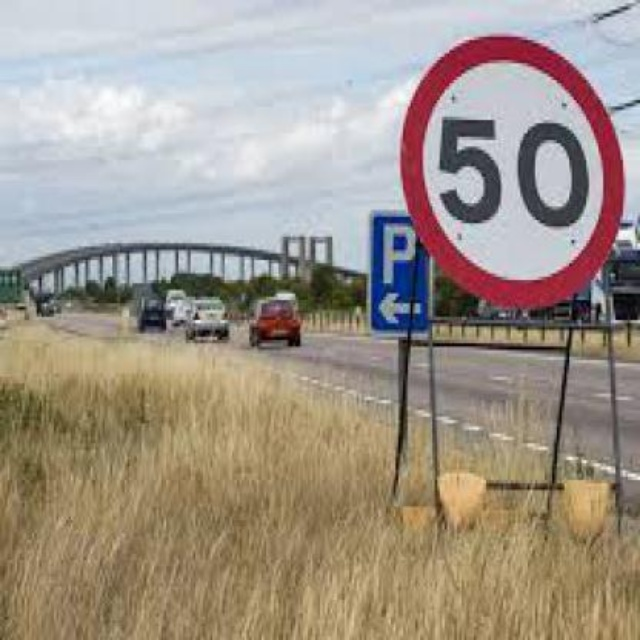Tốc độ tối đa cho phép 50km/h: (401, 36, 624, 305)
